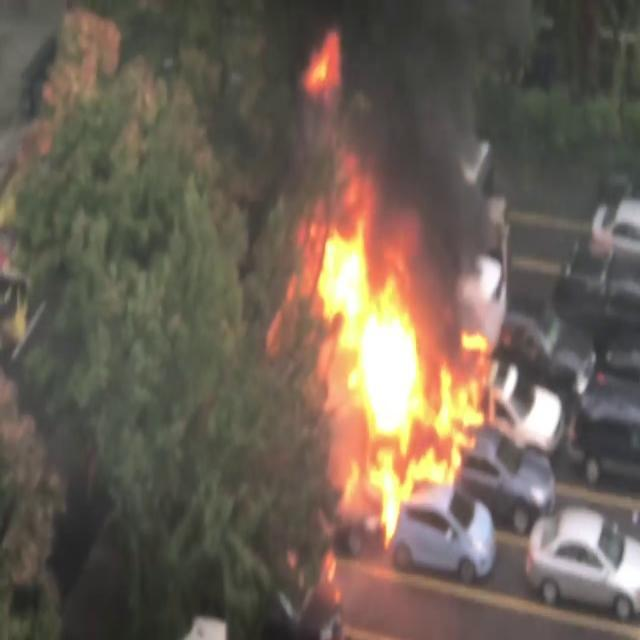Fire: (273, 143, 503, 537)
Smoke: (243, 0, 482, 236)
